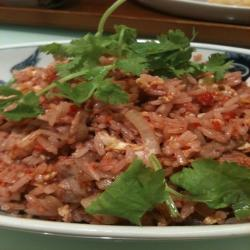rice: (20, 77, 231, 164)
